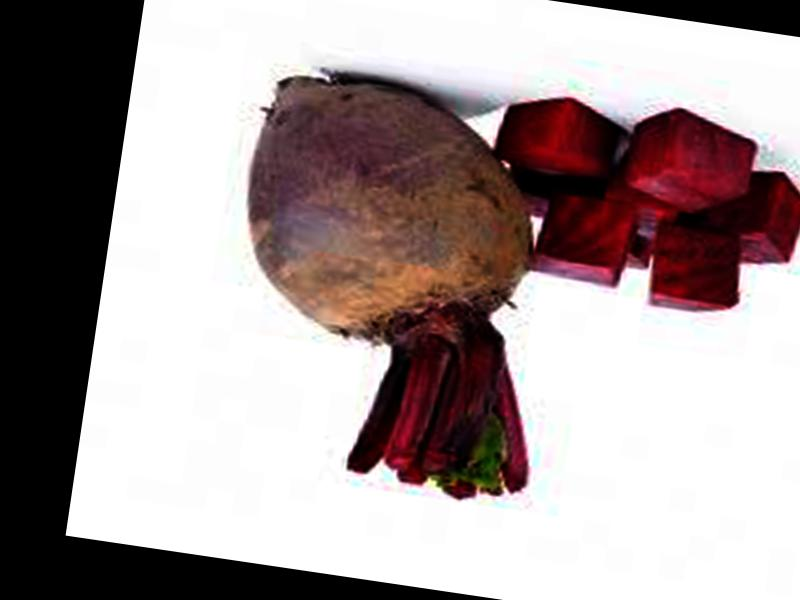Beet: (209, 64, 580, 504)
